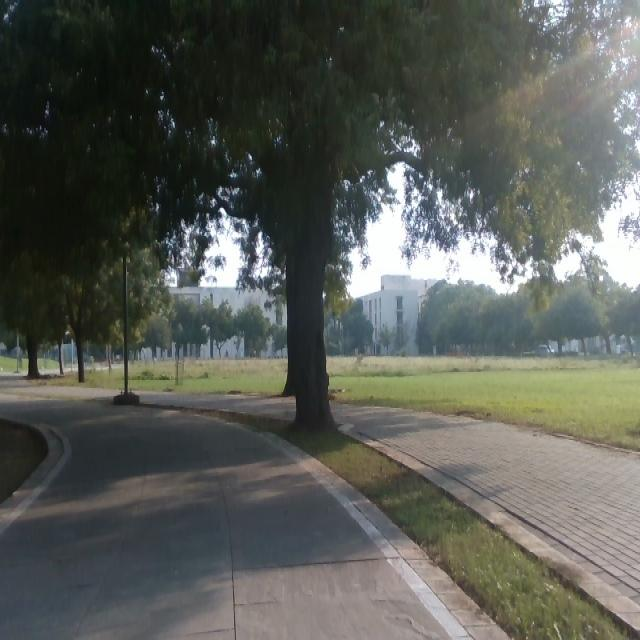lane: (6, 405, 454, 638)
